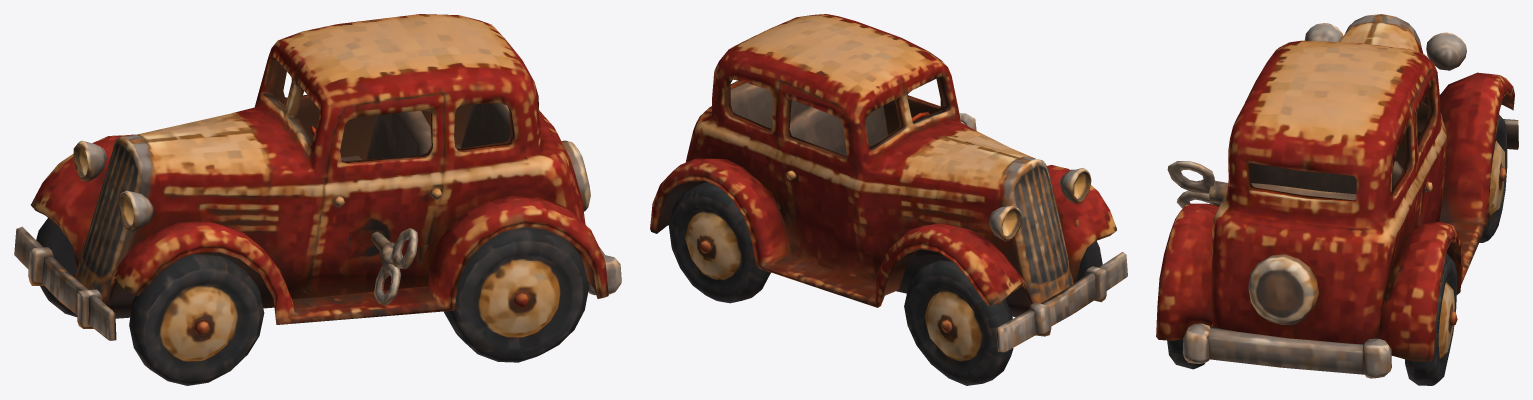
Rendered from toy_car.glb.
3 renders of one model, left to right at view 1: azimuth 30°, elevation 25°; view 2: azimuth 150°, elevation 25°; view 3: azimuth 270°, elevation 25°, orthographic. The views are drawn at different scales.
Parts seen in each view (by area): view 1: geometry_0; view 2: geometry_0; view 3: geometry_0.
Part boxes in pixels (<box>): geometry_0: <box>14,14,621,385</box>; geometry_0: <box>650,14,1127,385</box>; geometry_0: <box>1156,14,1518,385</box>.
Bounding box in the file's own units: 1 × 0.5436 × 0.6655.
1 material, 1 textured.
